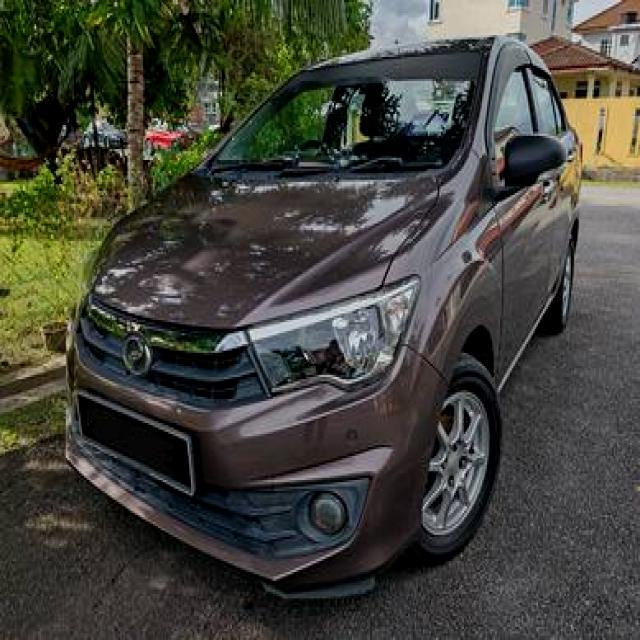PeroduaBezza: (61, 33, 582, 601)
